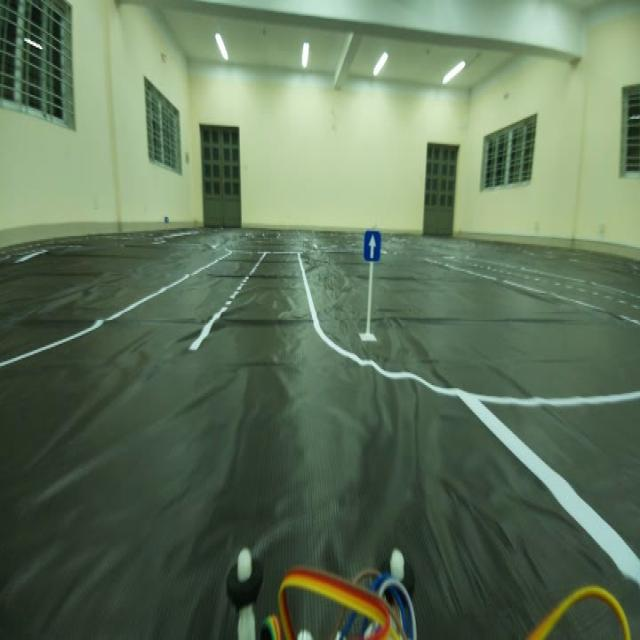onewayroad: (360, 222, 384, 269)
